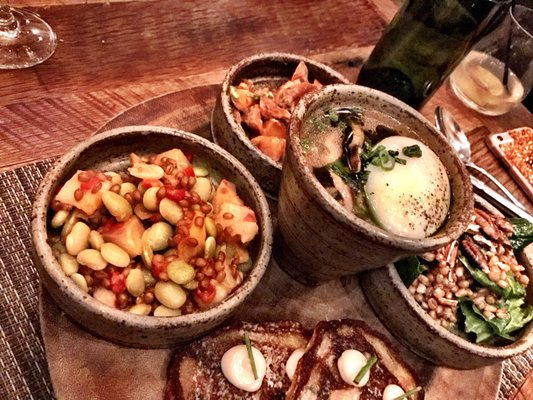pizza: (356, 0, 485, 109), (447, 1, 533, 119)
sushi: (31, 124, 274, 350), (275, 83, 477, 285), (211, 54, 351, 197)
